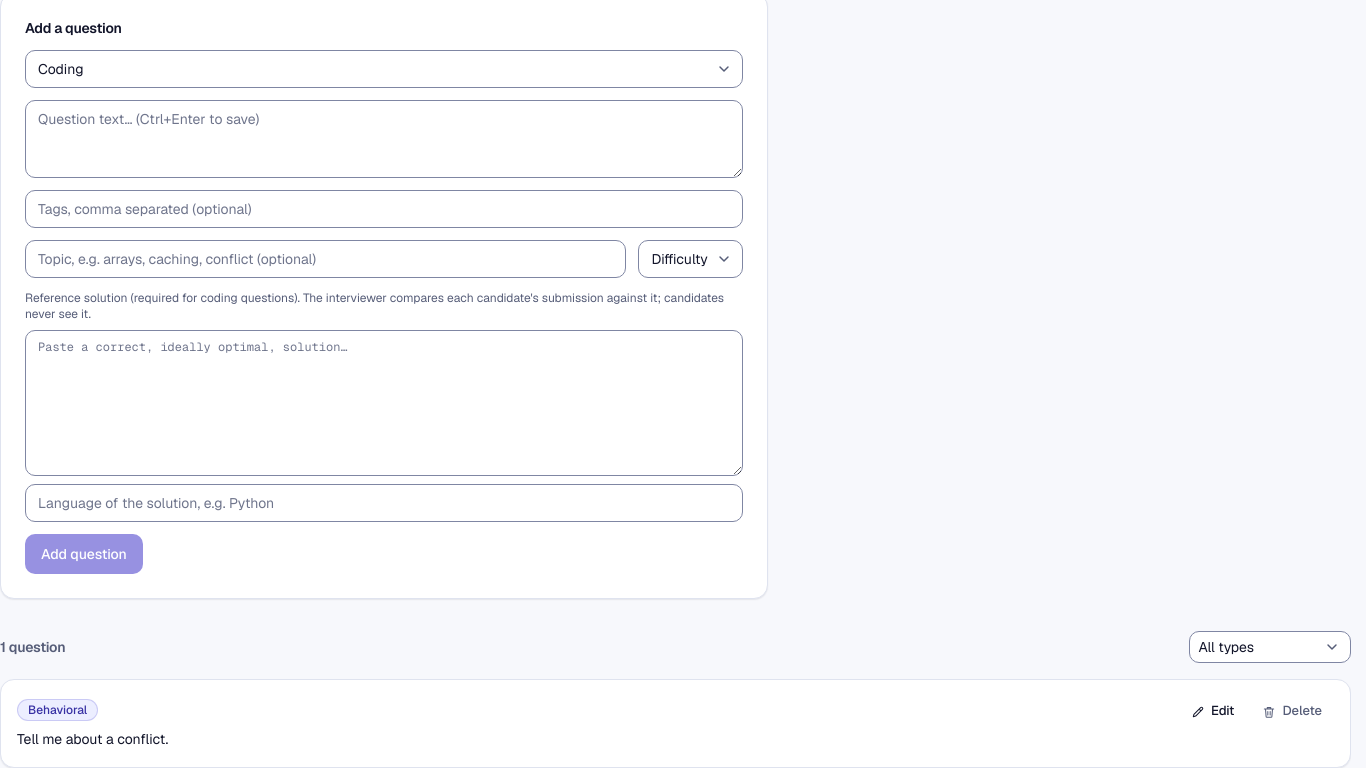
QuestionBankView › keeps the question and shows why when the delete fails
(page scrolled)
Click the button with aria-label "Delete question: Tell me".
click(1292, 712)  # box [1250,696,1334,728]
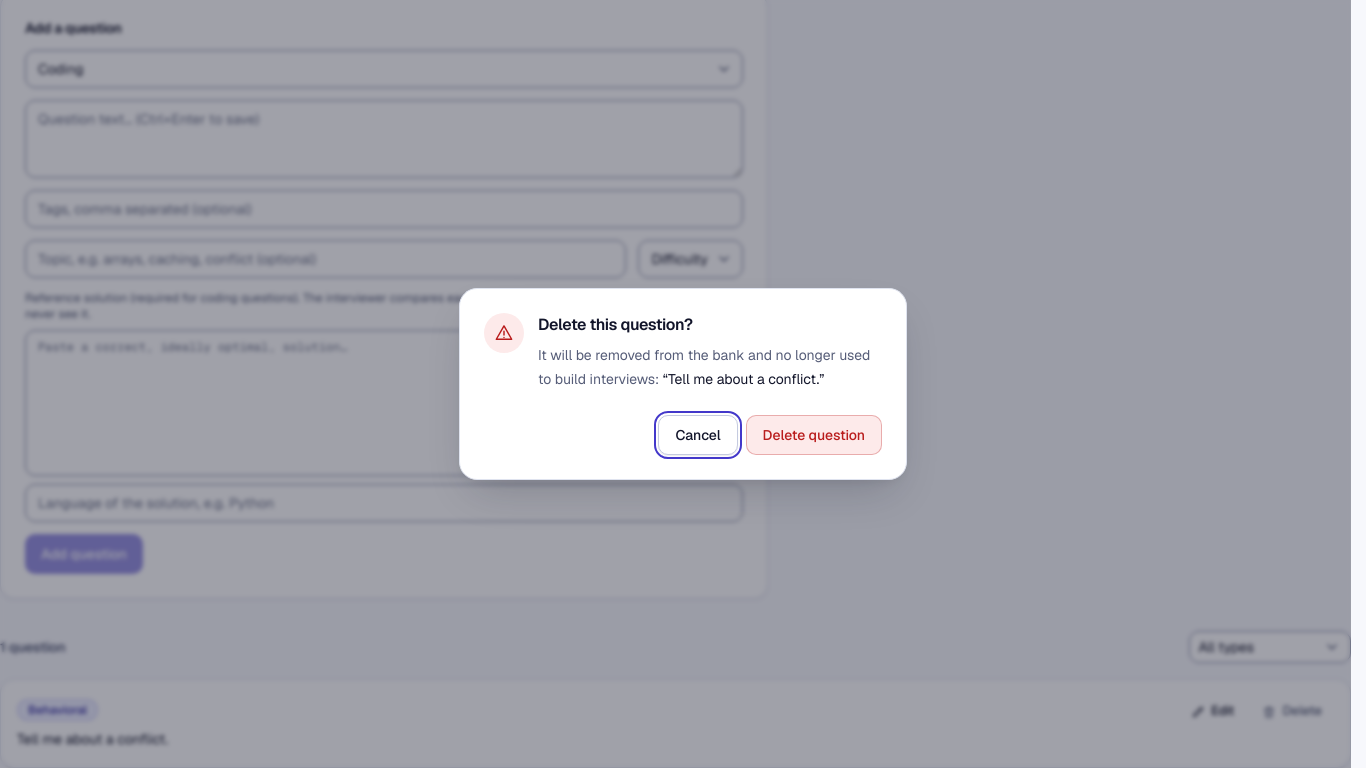
Click the button "Delete question".
click(814, 435)  # box [746,415,882,455]
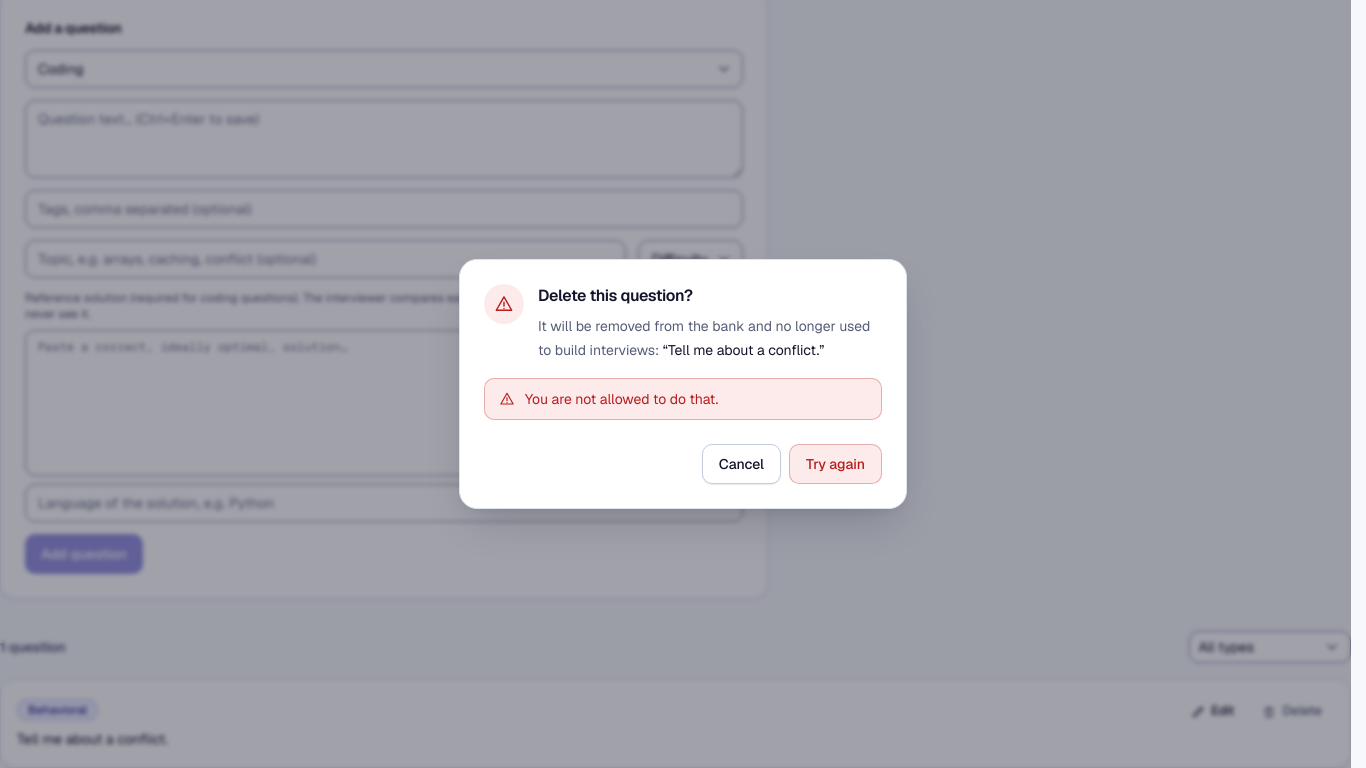
Now the dialog is shown, box [459,259,907,509]
Now the message reads "You are not allowed to do that.", box [525,390,718,408]
